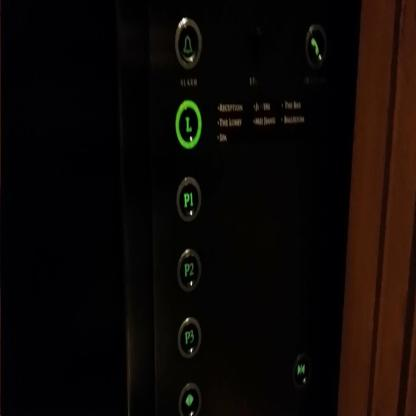L: (174, 100, 202, 150)
P1: (176, 177, 202, 222)
P2: (177, 249, 203, 294)
P3: (178, 316, 202, 359)
alarm: (175, 17, 202, 68)
call: (304, 21, 329, 71)
close: (291, 355, 310, 387)
open: (177, 382, 200, 416)
